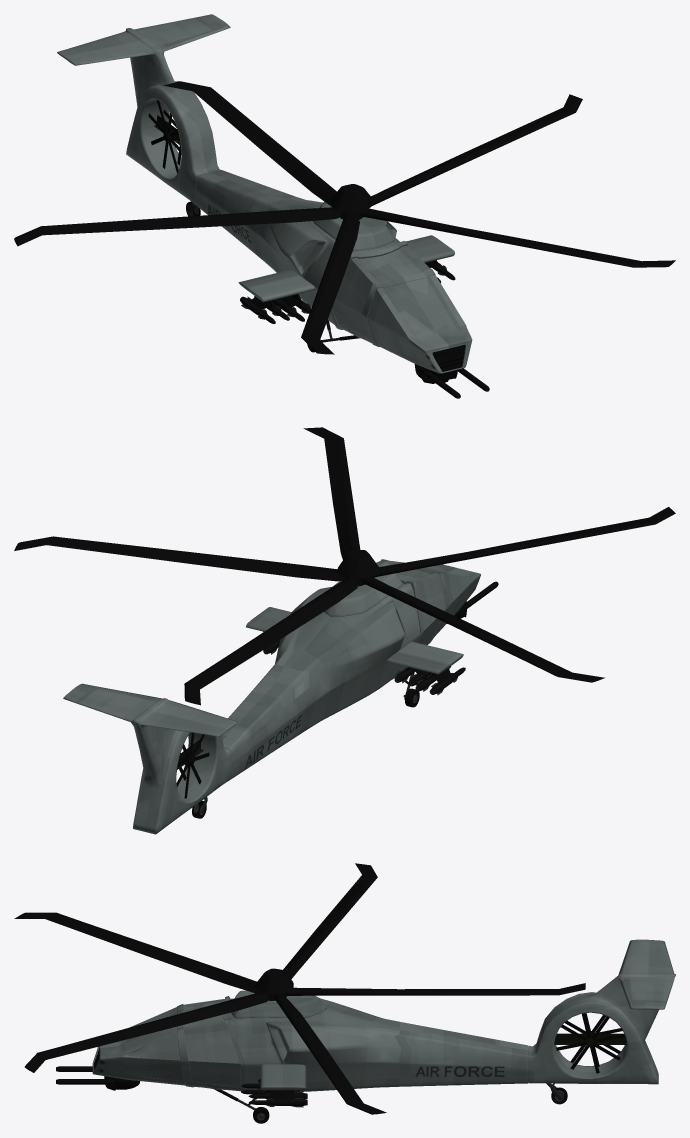
Rendered from army helicopter_obj.obj.
The picture shows the model from 3 angles, top to bottom: view 1: azimuth 30°, elevation 25°; view 2: azimuth 150°, elevation 25°; view 3: azimuth 270°, elevation 25°; orthographic projection. The views are drawn at different scales.
Visible parts, largest first — view 1: mainbody_Cube, rotor_Circle.003, rear_rotor.001_Circle.017, Cube.004_Cube.007; view 2: mainbody_Cube, rotor_Circle.003, rear_rotor.001_Circle.017; view 3: mainbody_Cube, rotor_Circle.003, rear_rotor_Circle.004, Plane, rear_rotor.001_Circle.017, rocket.003_Circle.012, mainbody.001_Cube.008.
Boxes of the visible parts, x1,y1,x2,y2 form: mainbody_Cube: [57, 14, 472, 373]; rotor_Circle.003: [14, 81, 675, 354]; rear_rotor.001_Circle.017: [148, 100, 181, 173]; Cube.004_Cube.007: [432, 345, 465, 371]; mainbody_Cube: [63, 559, 480, 834]; rotor_Circle.003: [14, 427, 675, 705]; rear_rotor.001_Circle.017: [176, 732, 209, 798]; mainbody_Cube: [92, 939, 675, 1092]; rotor_Circle.003: [14, 863, 585, 1114]; rear_rotor_Circle.004: [556, 1013, 624, 1073]; Plane: [554, 1033, 626, 1044]; rear_rotor.001_Circle.017: [564, 1013, 622, 1066]; rocket.003_Circle.012: [249, 1098, 307, 1107]; mainbody.001_Cube.008: [214, 1089, 269, 1123].
Bounding box in the file's own units: 15.46 × 3.74 × 17.19.
17 materials, 4 textured.
